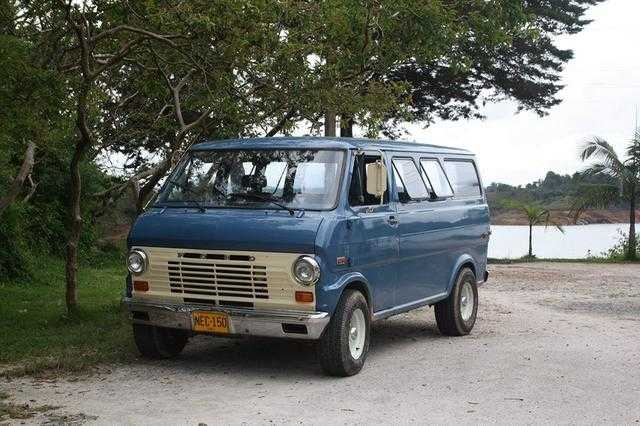van: (120, 136, 492, 379)
